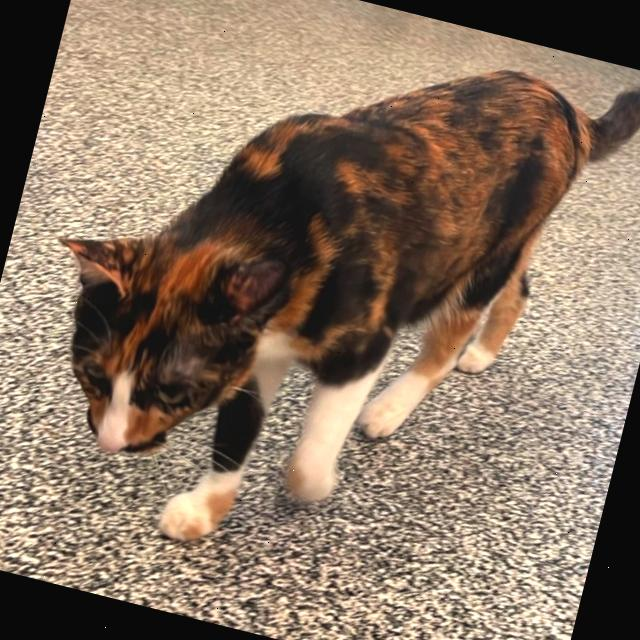calico_cat: (0, 181, 316, 496)
